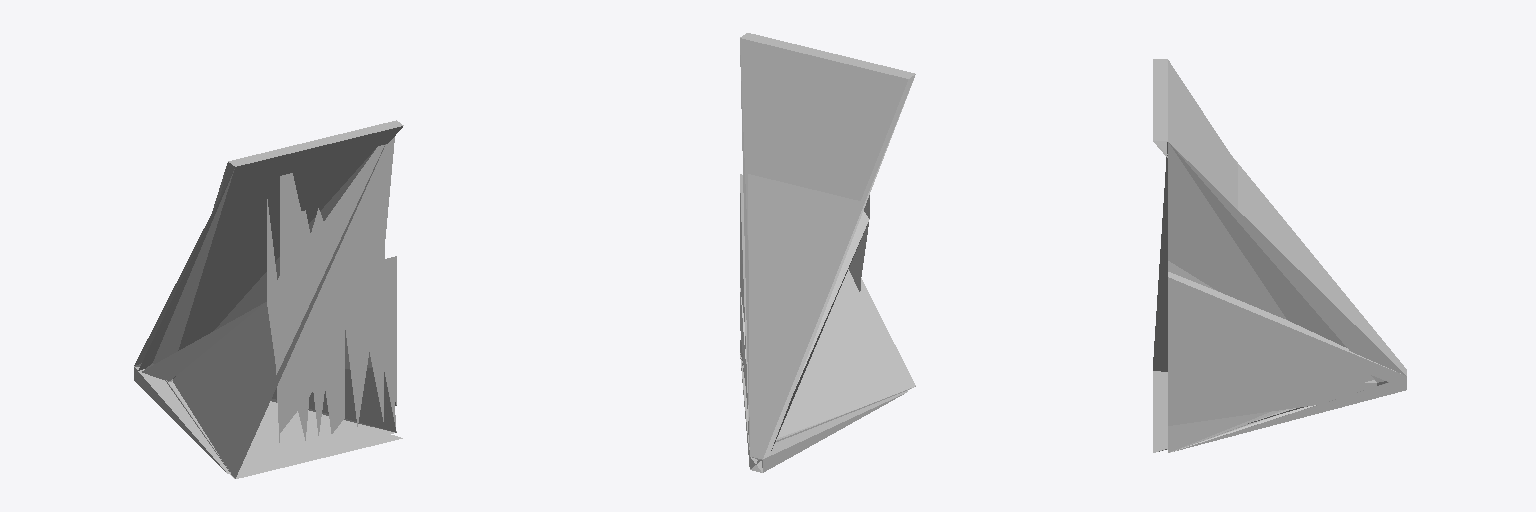
File: Cold Fire.obj
3 renders of one model, left to right at view 1: azimuth 30°, elevation 25°; view 2: azimuth 150°, elevation 25°; view 3: azimuth 270°, elevation 25°, orthographic.
Size of the model in its own units: 13 by 23 by 17.